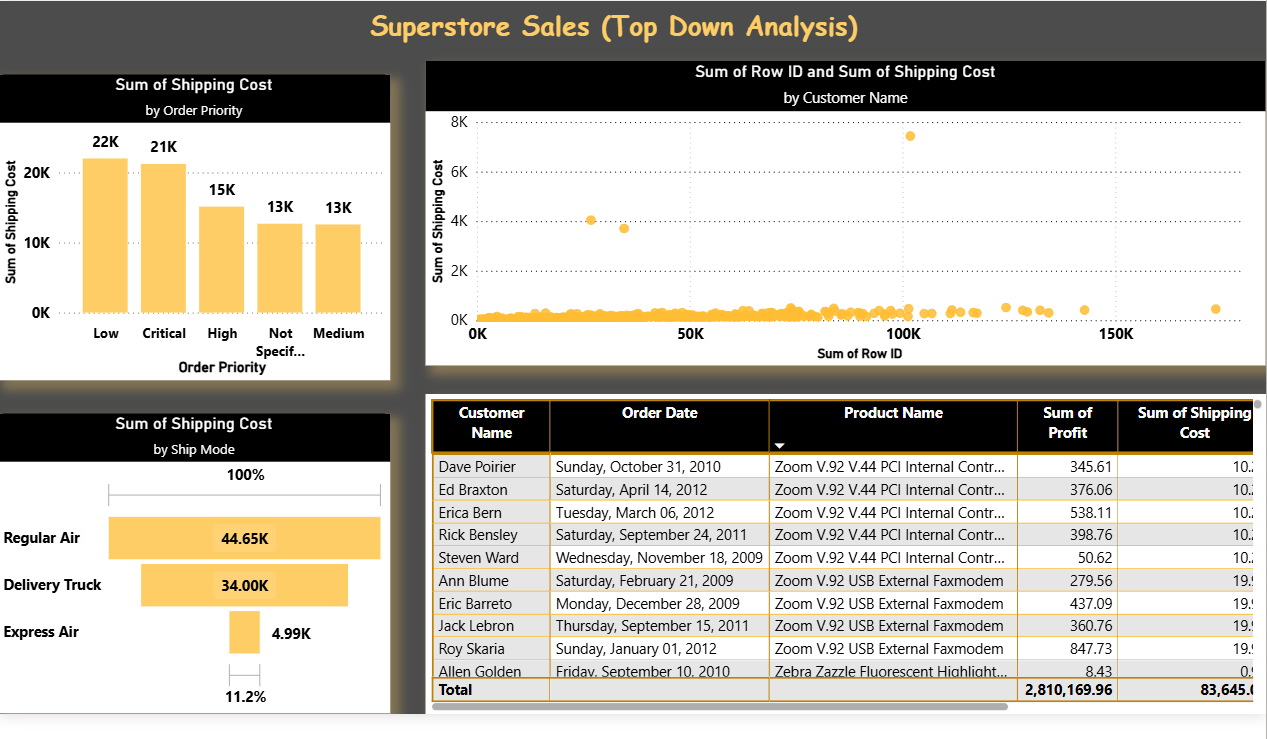

The page's visual inventory and layout, read from the dashboard file:
{"tool":"powerbi","page":{"name":"top_down_Analysis/filtering","canvas":[1280,720],"ordinal":0},"visuals":[{"type":"columnChart","fields":{"Category":["Orders.Order Priority"],"Y":["Sum(Orders.Shipping Cost)"]},"box":[0,74.7,395.8,308.3],"z":0},{"type":"funnel","fields":{"Category":["Orders.Ship Mode"],"Y":["Sum(Orders.Shipping Cost)"]},"box":[0,416.6,395.7,303],"z":1000},{"type":"scatterChart","fields":{"Y":["Sum(Orders.Shipping Cost)"],"X":["Sum(Orders.Row ID)"],"Category":["Orders.Customer Name"]},"box":[432,59.9,847.8,307.4],"z":2000},{"type":"tableEx","fields":{"Values":["Orders.Customer Name","Orders.Order Date","Orders.Product Name","Sum(Orders.Profit)","Sum(Orders.Shipping Cost)","Sum(Orders.Sales)","Orders.Province","Orders.Region"]},"box":[432,396.4,849.4,325.2],"z":3000},{"type":"textbox","box":[76,0,1092.1,59.9],"z":4000}]}

Visuals, with their boxes on the page's 1280x720 design canvas (x1, y1, x2, y2). These are canvas units, not pixel positions in the 1267x739 screenshot, which may show the page scaled, cropped or inside an application window:
columnChart - Orders.Order Priority x Sum(Orders.Shipping Cost): x1=0 y1=75 x2=396 y2=383
funnel - Orders.Ship Mode x Sum(Orders.Shipping Cost): x1=0 y1=417 x2=396 y2=720
scatterChart - Sum(Orders.Shipping Cost) x Sum(Orders.Row ID): x1=432 y1=60 x2=1280 y2=367
tableEx - Orders.Customer Name x Orders.Order Date: x1=432 y1=396 x2=1281 y2=722
textbox: x1=76 y1=0 x2=1168 y2=60
